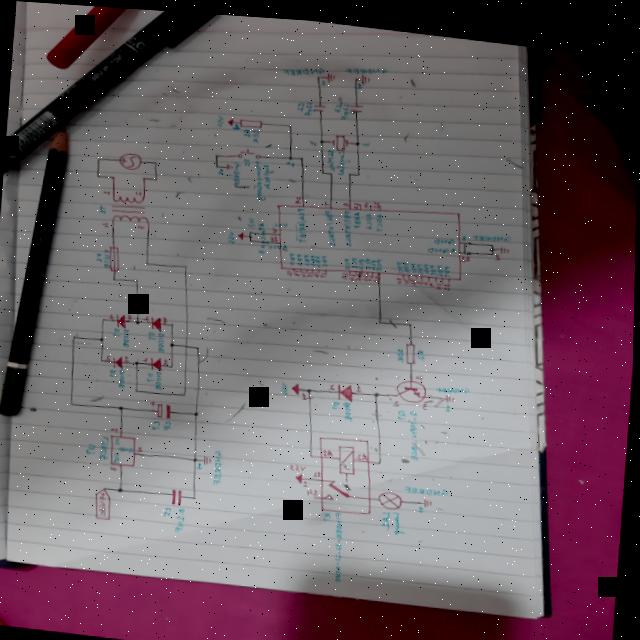capacitor: (150, 397, 174, 416), (172, 483, 186, 503), (349, 96, 365, 108), (313, 99, 327, 108)
crossover: (186, 341, 190, 345)
diode: (338, 378, 356, 397), (151, 353, 165, 369), (151, 313, 164, 330), (116, 311, 129, 327), (114, 352, 126, 368)
ground: (360, 68, 372, 81), (326, 68, 336, 79), (445, 387, 456, 397), (205, 452, 215, 462), (500, 238, 510, 247), (425, 492, 434, 501), (226, 160, 234, 166)
junction: (119, 402, 127, 409), (374, 385, 383, 391), (193, 407, 202, 413), (119, 485, 127, 491), (170, 338, 176, 345), (310, 448, 317, 454), (184, 260, 190, 266), (141, 173, 148, 178), (378, 454, 384, 459), (153, 157, 159, 162), (146, 258, 152, 263), (153, 174, 159, 179), (379, 314, 385, 319), (73, 333, 79, 338), (97, 155, 103, 160), (96, 172, 102, 177), (100, 335, 106, 340), (194, 453, 200, 458), (308, 383, 314, 388), (136, 358, 142, 363), (136, 317, 142, 322), (320, 134, 325, 139), (289, 151, 294, 156), (194, 492, 200, 496), (215, 150, 221, 154), (112, 275, 118, 279), (183, 389, 189, 393), (112, 173, 117, 177), (409, 316, 414, 320), (356, 136, 361, 140), (300, 151, 304, 156), (490, 240, 496, 243), (136, 386, 140, 390), (357, 167, 361, 171), (463, 243, 467, 247), (136, 276, 140, 279), (215, 161, 219, 164), (72, 401, 76, 404), (171, 362, 175, 365), (172, 320, 176, 323), (103, 316, 107, 319), (355, 72, 359, 75), (317, 70, 321, 73), (349, 167, 353, 170), (321, 166, 325, 169), (330, 167, 334, 170), (249, 231, 253, 234), (250, 235, 254, 238), (464, 235, 468, 238), (492, 245, 496, 248), (491, 236, 495, 239), (289, 120, 293, 122), (101, 357, 105, 359), (249, 227, 253, 229), (197, 343, 201, 345)
resistor: (406, 336, 419, 358), (239, 113, 263, 124)
source: (119, 148, 143, 169), (295, 467, 306, 478), (292, 378, 302, 390), (238, 228, 245, 236), (228, 114, 234, 122)
switch: (238, 144, 262, 156)
terminal: (95, 484, 116, 518)
text: (332, 506, 349, 578), (407, 403, 425, 455), (252, 156, 270, 198), (282, 58, 326, 75), (471, 223, 513, 237), (346, 58, 388, 72), (406, 478, 451, 491), (323, 205, 339, 241), (295, 203, 311, 238), (342, 204, 355, 242), (335, 144, 353, 171), (257, 217, 271, 250), (214, 445, 226, 481), (437, 377, 471, 389), (393, 505, 409, 529), (427, 238, 457, 249), (176, 504, 188, 530), (343, 395, 356, 417), (101, 434, 112, 459), (341, 98, 356, 116), (263, 159, 273, 185), (326, 144, 337, 166), (382, 504, 394, 524), (432, 229, 456, 239), (100, 490, 110, 514), (233, 158, 242, 182), (375, 207, 385, 226), (353, 205, 363, 224), (158, 329, 167, 350), (104, 246, 113, 267), (123, 326, 132, 346), (304, 96, 316, 111), (119, 367, 128, 386), (156, 368, 165, 387), (269, 238, 290, 246), (87, 440, 98, 454), (291, 458, 308, 467), (365, 207, 374, 223), (323, 505, 334, 517), (281, 378, 292, 390), (357, 446, 370, 456), (120, 443, 136, 451), (397, 342, 406, 356), (252, 125, 261, 139), (398, 403, 409, 414), (322, 250, 331, 263), (351, 251, 360, 264), (273, 216, 289, 223), (247, 213, 257, 224), (216, 111, 225, 123), (396, 255, 405, 267), (437, 258, 446, 270), (444, 259, 453, 271), (344, 252, 353, 264), (228, 227, 237, 239), (303, 249, 311, 262), (310, 249, 318, 262), (315, 250, 323, 263), (99, 202, 109, 212), (153, 417, 163, 427), (334, 395, 344, 405), (325, 443, 336, 452), (403, 255, 412, 266), (410, 256, 419, 267), (417, 257, 426, 268), (430, 258, 439, 269), (365, 252, 374, 263), (308, 483, 320, 491), (289, 248, 297, 260), (115, 449, 122, 462), (418, 344, 427, 354), (165, 417, 174, 427), (165, 504, 174, 514), (97, 250, 105, 261), (461, 248, 472, 256), (424, 256, 432, 267), (296, 249, 303, 261), (377, 253, 384, 265), (243, 124, 252, 133), (359, 253, 366, 264), (149, 329, 158, 337), (297, 98, 305, 107), (334, 99, 343, 107), (149, 370, 157, 379), (243, 154, 252, 162), (295, 191, 303, 200), (314, 465, 324, 472), (362, 135, 372, 142), (232, 119, 242, 126), (372, 254, 379, 264), (302, 387, 310, 395), (111, 367, 119, 375), (115, 326, 123, 334), (444, 276, 452, 284), (286, 156, 295, 163), (410, 271, 417, 280), (271, 230, 280, 237), (138, 443, 146, 450), (198, 459, 206, 466), (356, 379, 364, 386), (144, 312, 152, 319), (419, 498, 426, 506), (416, 368, 424, 375), (393, 393, 401, 400), (495, 246, 502, 254), (374, 195, 381, 203), (342, 267, 350, 274), (357, 267, 363, 276), (116, 435, 123, 442), (106, 352, 113, 359), (397, 271, 404, 278), (113, 425, 121, 431), (310, 136, 318, 142), (112, 463, 120, 469), (135, 188, 143, 194), (103, 220, 111, 226), (446, 397, 452, 405), (364, 196, 372, 202), (351, 268, 357, 276), (375, 269, 381, 277), (354, 197, 360, 204), (304, 475, 310, 482), (125, 353, 131, 360), (165, 355, 171, 362), (320, 74, 326, 81), (357, 77, 363, 84), (423, 396, 429, 403), (218, 164, 225, 170), (462, 227, 468, 234), (436, 277, 443, 283), (287, 265, 293, 272), (296, 265, 302, 272), (308, 266, 314, 273), (272, 222, 278, 229), (138, 222, 146, 227), (330, 379, 336, 385), (129, 312, 135, 318), (164, 314, 170, 320), (405, 272, 411, 278), (303, 266, 309, 272), (322, 267, 328, 273), (363, 269, 369, 275), (369, 269, 375, 275), (343, 197, 350, 202), (325, 196, 331, 201), (110, 312, 116, 317), (314, 267, 320, 272), (104, 189, 111, 193), (143, 355, 150, 359), (430, 276, 437, 280), (417, 274, 423, 278), (423, 274, 429, 278)
transformer: (111, 191, 153, 225)
transistor: (396, 372, 429, 397)
